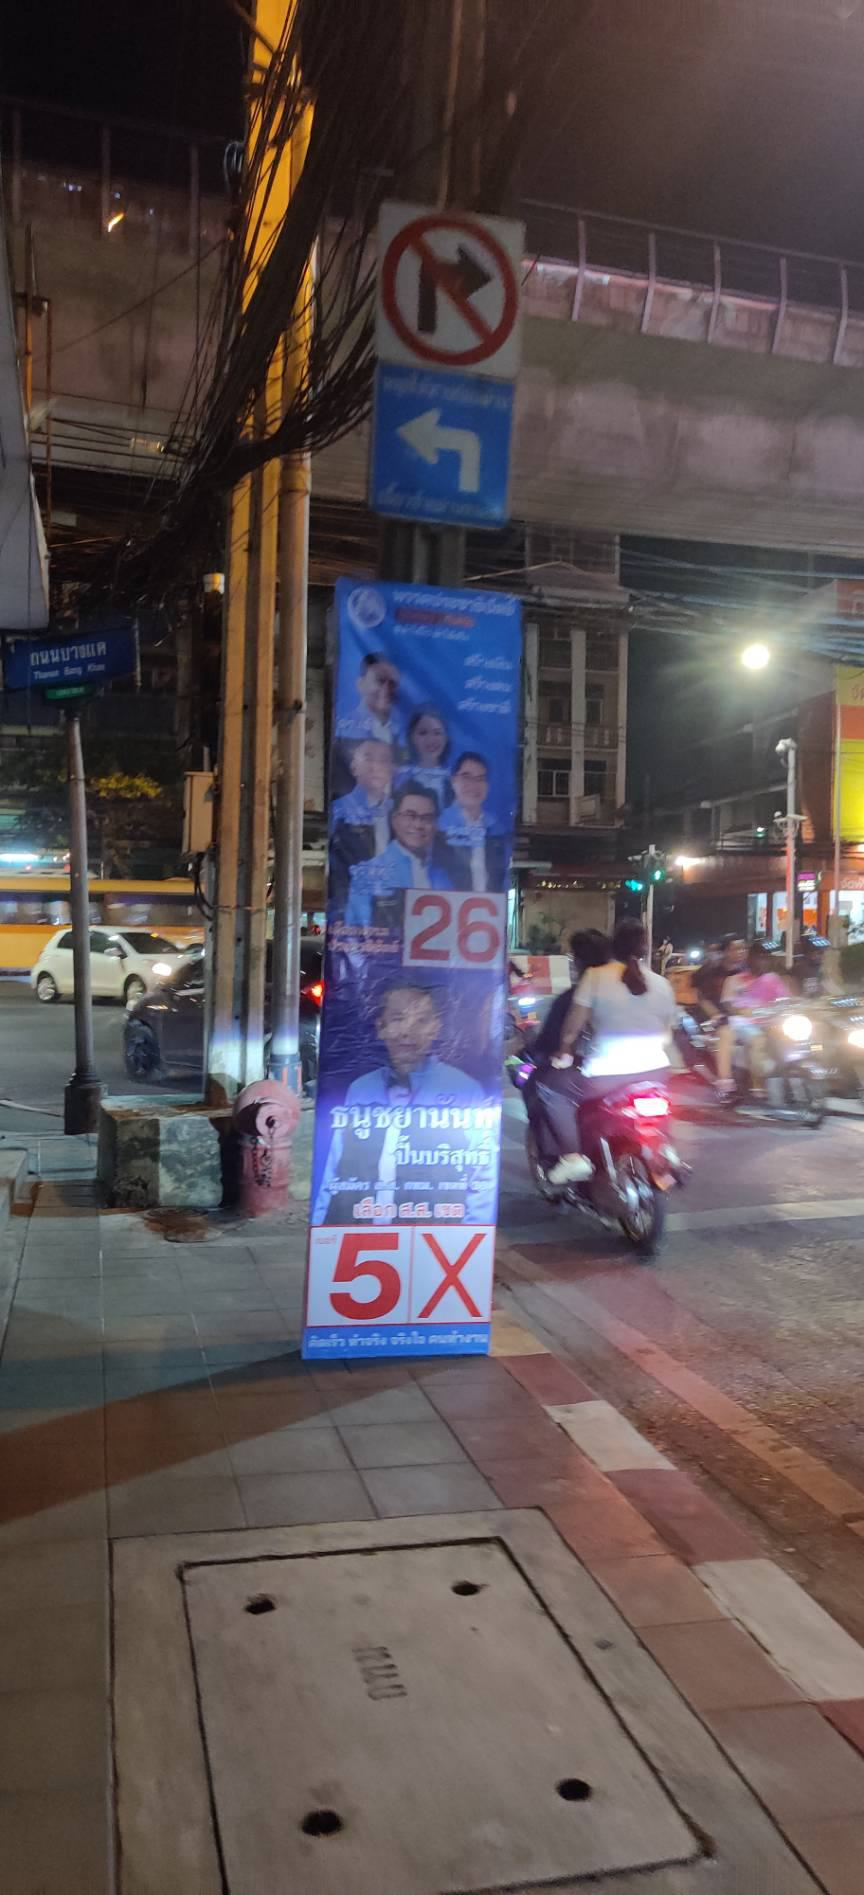Banner: (297, 570, 535, 1383)
